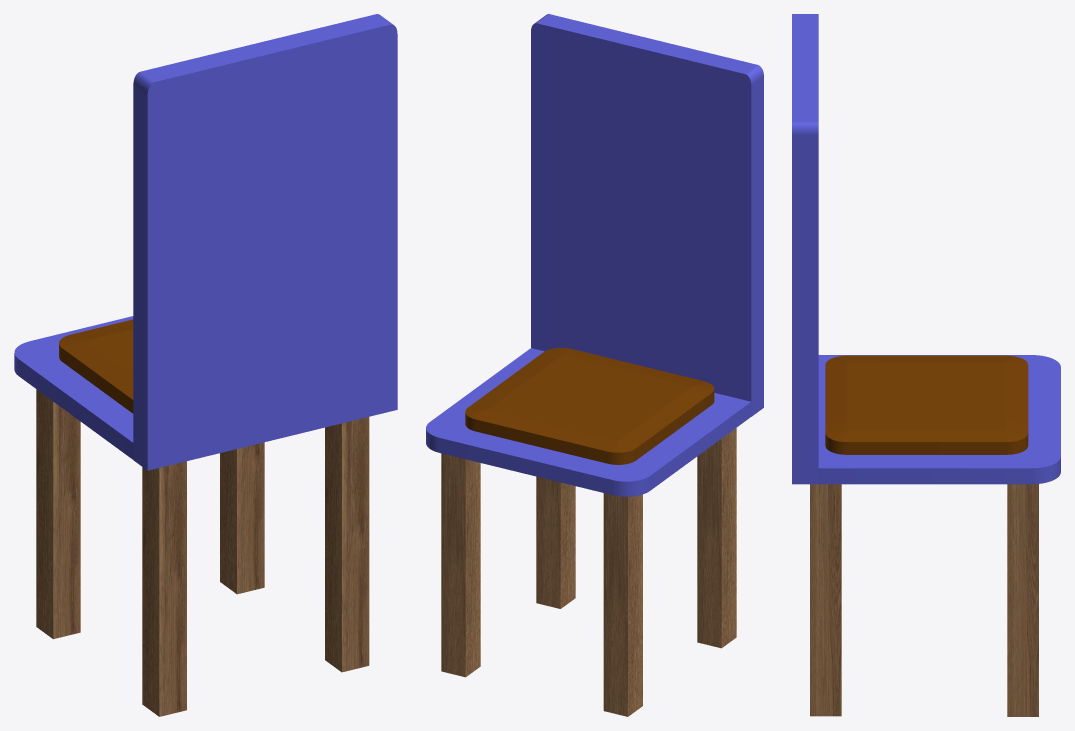
The model's file is Chair.fbx.
3 views of the same model, side by side, from view 1: azimuth 30°, elevation 25°; view 2: azimuth 150°, elevation 25°; view 3: azimuth 270°, elevation 25° (orthographic). The views are drawn at different scales.
Visible parts, largest first — view 1: Cube; view 2: Cube; view 3: Cube.
Part boxes in pixels (x1,y1,x2,y2): Cube: (14,14,397,716); Cube: (426,14,763,716); Cube: (792,14,1060,716).
Size of the model in its own units: 200 by 494 by 200.
